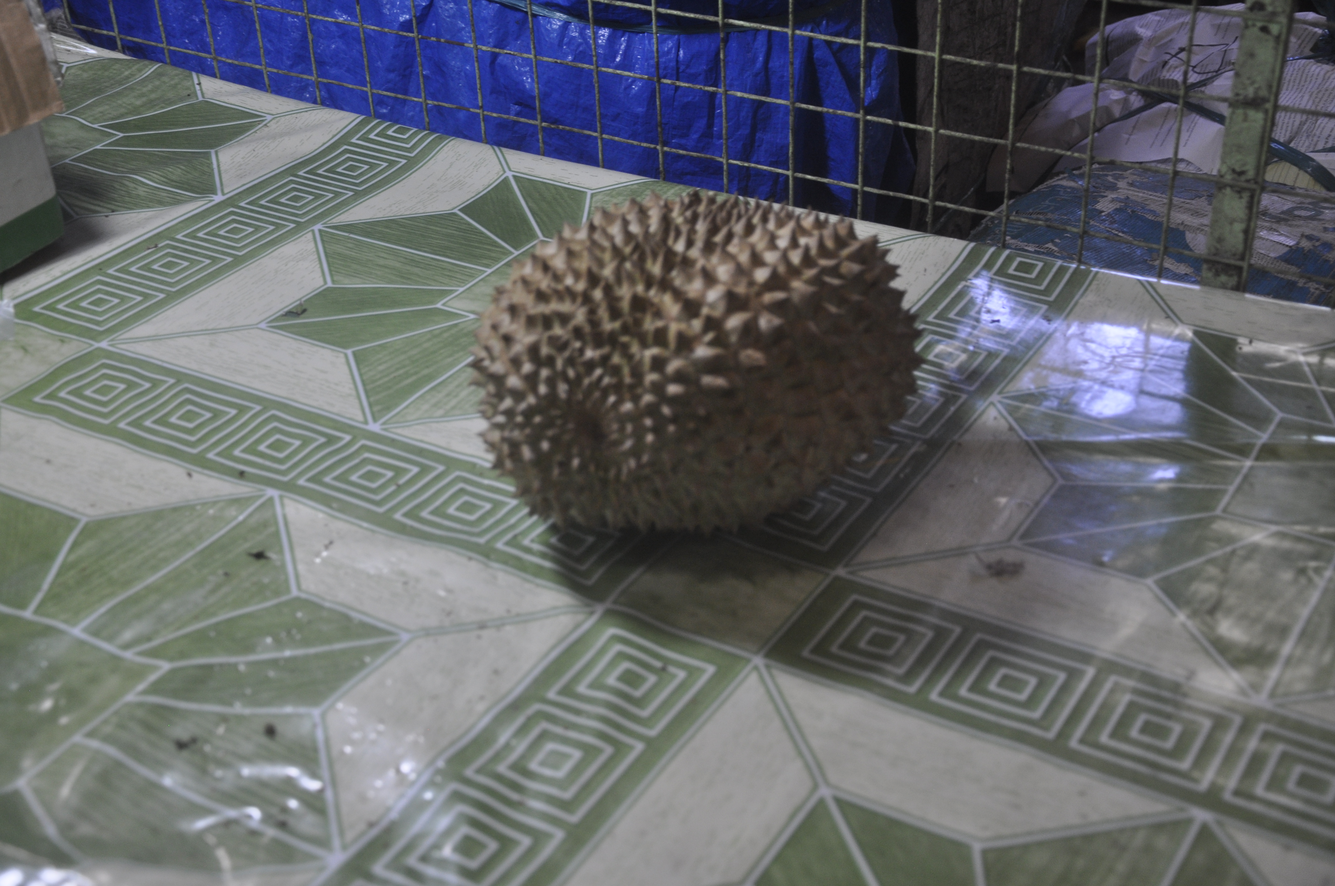mature: (472, 192, 922, 531)
